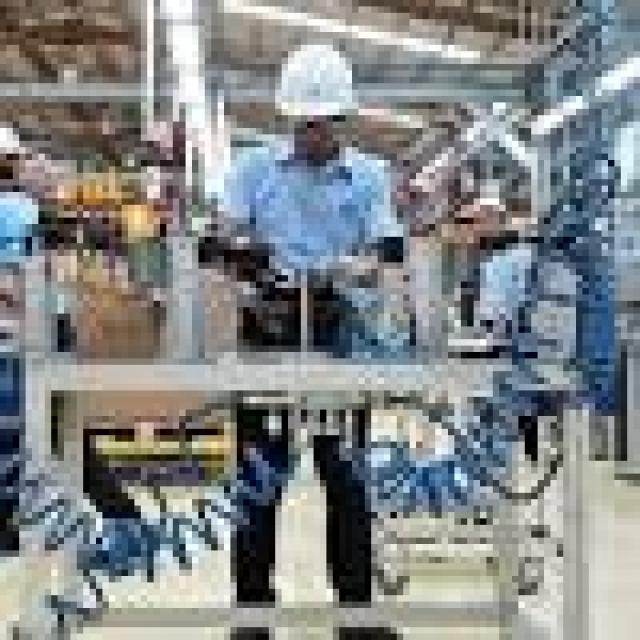Safety-Helmet: (256, 32, 378, 134)
